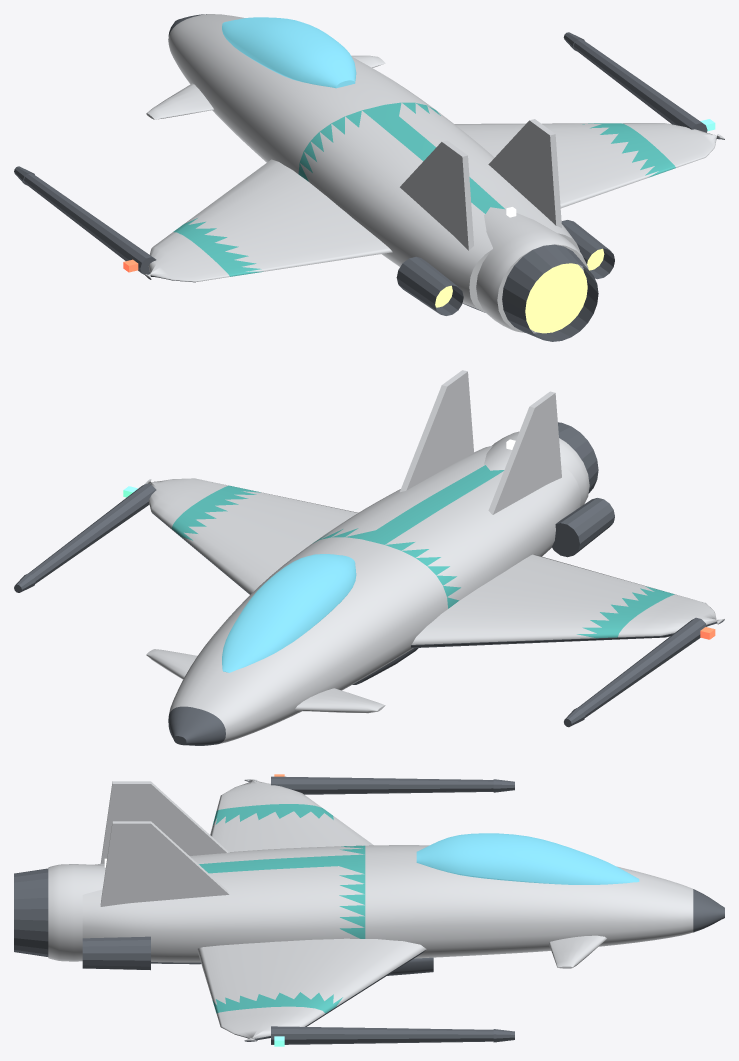
Rendered from hornet.glb.
3 views of the same model, one above another, from view 1: azimuth 30°, elevation 25°; view 2: azimuth 150°, elevation 25°; view 3: azimuth 270°, elevation 25° (orthographic). The views are drawn at different scales.
Parts seen in each view (by area): view 1: Hornet_Hull; view 2: Hornet_Hull; view 3: Hornet_Hull.
Part boxes in pixels (bbox=[...]): Hornet_Hull: bbox=[14, 14, 724, 341]; Hornet_Hull: bbox=[14, 370, 724, 745]; Hornet_Hull: bbox=[14, 774, 724, 1046].
Size of the model in its own units: 7.36 by 2.16 by 8.3.
